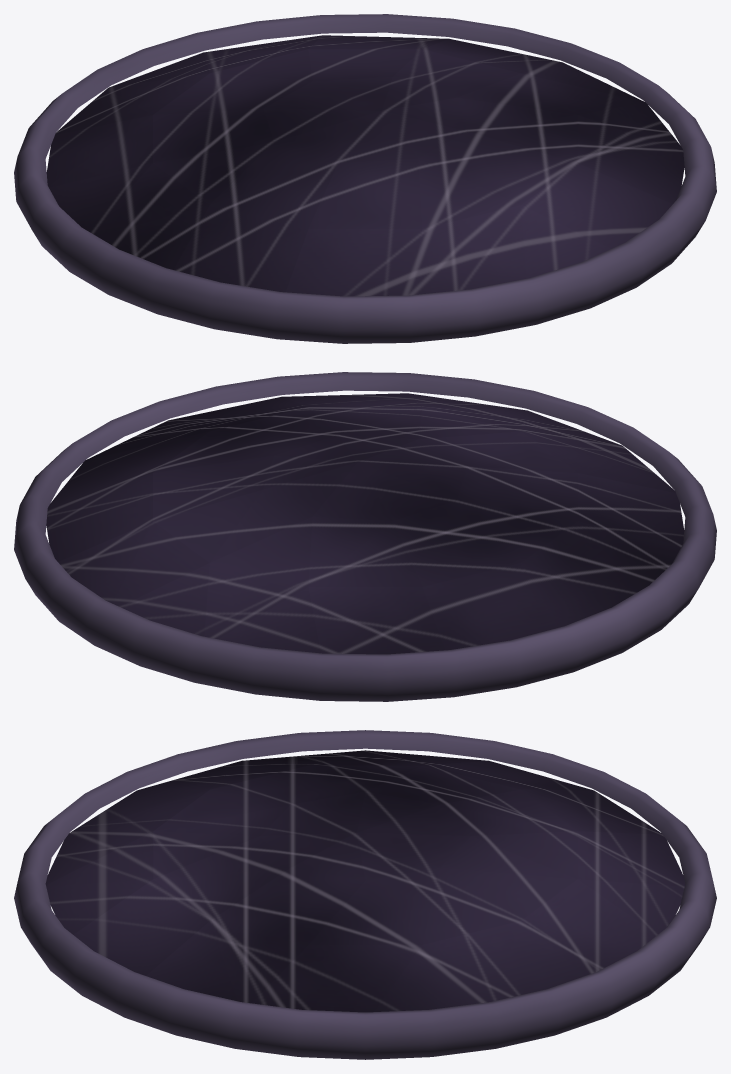
The model's file is mm6_deco_crysdisc.glb.
3 views of the same model, one above another, from view 1: azimuth 30°, elevation 25°; view 2: azimuth 150°, elevation 25°; view 3: azimuth 270°, elevation 25° (orthographic).
Visible parts, largest first — view 1: CrystalDisk; view 2: CrystalDisk; view 3: CrystalDisk.
Boxes of the visible parts, x1,y1,x2,y2 form: CrystalDisk: [14, 14, 716, 343]; CrystalDisk: [14, 372, 716, 701]; CrystalDisk: [14, 730, 716, 1059].
Bounding box in the file's own units: 0.4896 × 0.0759 × 0.4896.
2 materials, 2 textured.
